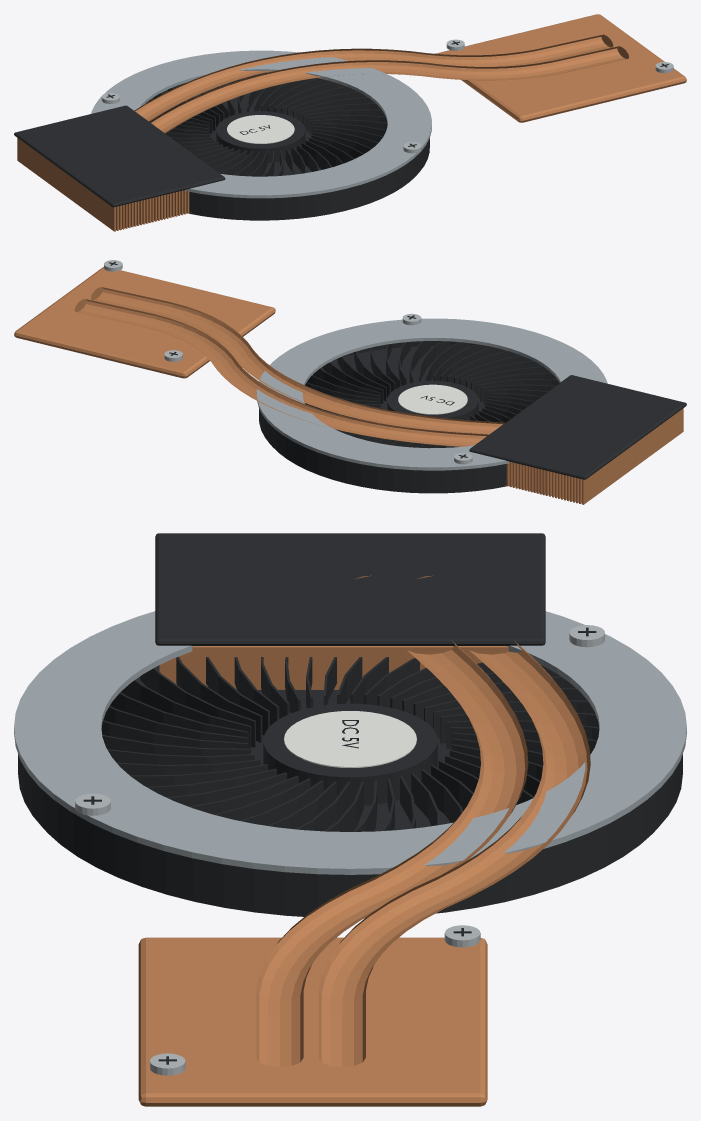
File: cooling.glb
3 renders of one model, top to bottom at view 1: azimuth 30°, elevation 25°; view 2: azimuth 150°, elevation 25°; view 3: azimuth 270°, elevation 25°, orthographic. The views are drawn at different scales.
Visible parts, largest first — view 1: cooling; view 2: cooling; view 3: cooling.
Part boxes in pixels (x1,y1,x2,y2): cooling: (14, 14, 686, 231); cooling: (14, 260, 686, 504); cooling: (14, 533, 686, 1106).
Size of the model in its own units: 3.12 by 0.1855 by 1.62.
